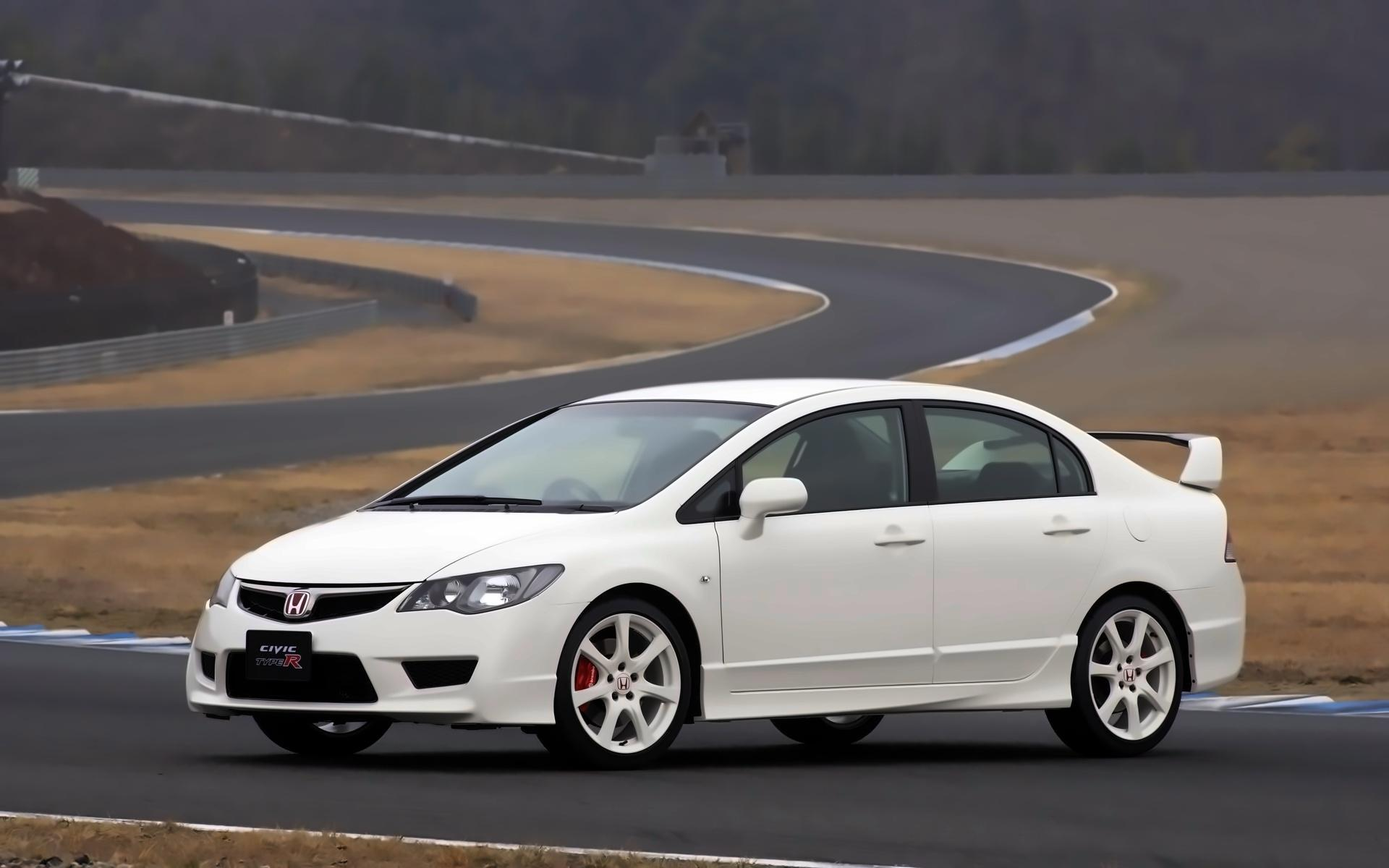Car hood: (232, 504, 584, 585)
Fender - -F-L-: (539, 493, 732, 731)
Fender - -R-L-: (1048, 468, 1234, 734)
Front bumper: (180, 601, 592, 735)
Headlight - -L-: (389, 556, 576, 619)
Headlight - -R-: (198, 550, 257, 615)
Passenger-s door - -F-L-: (712, 381, 941, 695)
Passenger-s door - -R-L-: (924, 380, 1124, 692)
Rear bumper: (1159, 580, 1259, 699)
Rear light - -L-: (1208, 495, 1249, 575)
Side bumper - -L-: (700, 635, 1088, 722)
Side mirror - -L-: (731, 465, 816, 538)
